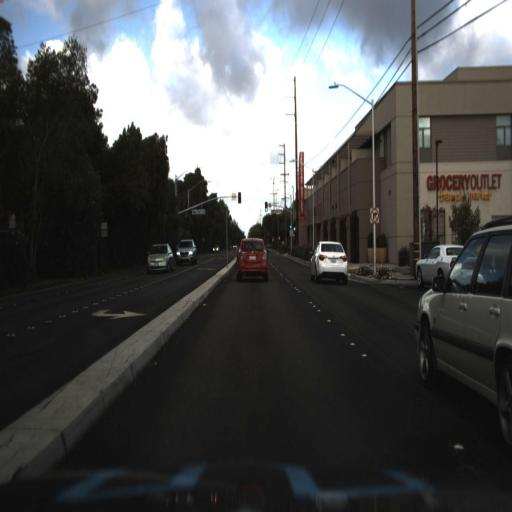car: (404, 225, 511, 473), (228, 231, 282, 292), (306, 233, 350, 292), (410, 242, 458, 288), (142, 239, 180, 274), (142, 240, 176, 276), (174, 235, 198, 266), (176, 239, 198, 264)
trafficLight-Green: (261, 197, 273, 221), (292, 222, 298, 236), (288, 221, 293, 236)
